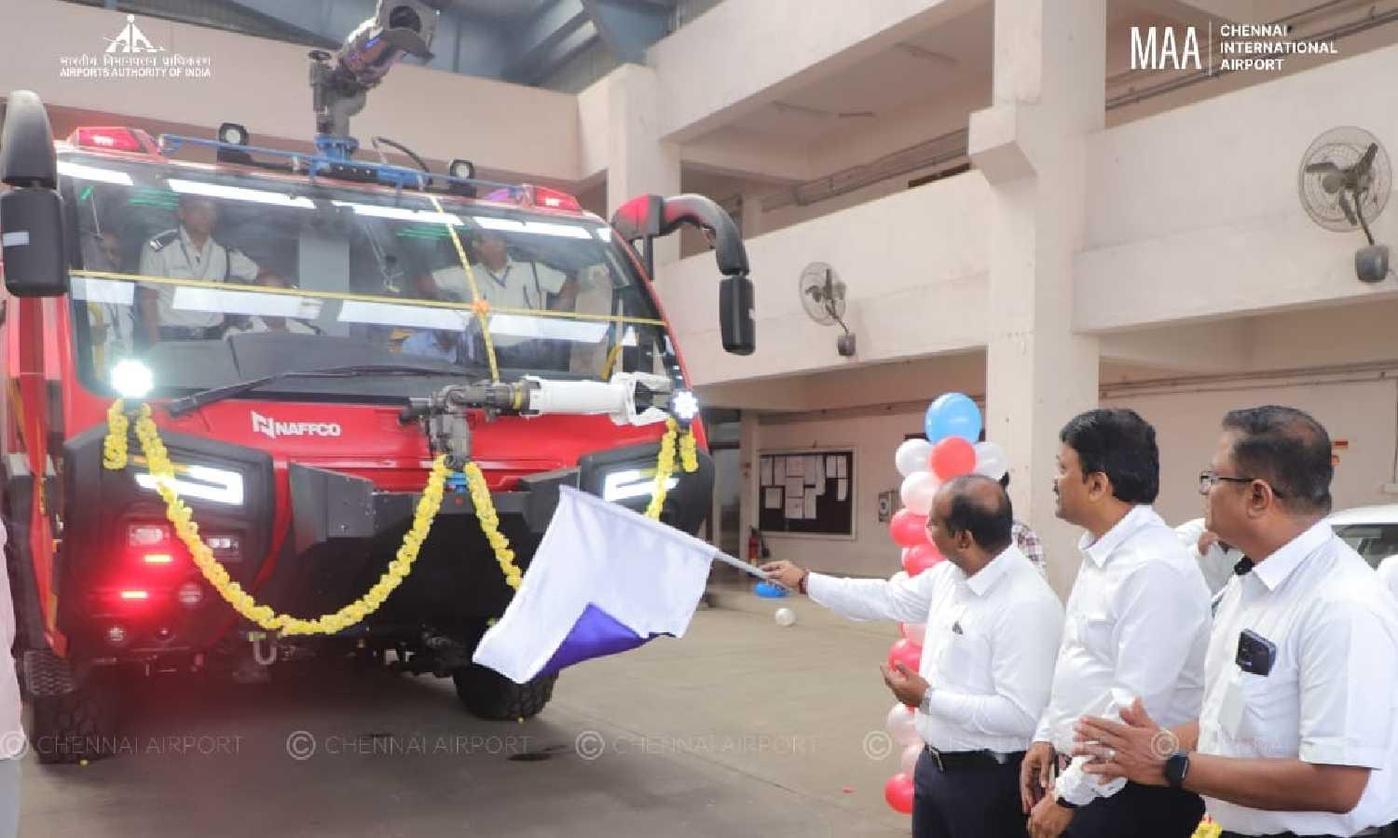Fire-engine: (3, 48, 720, 753)
